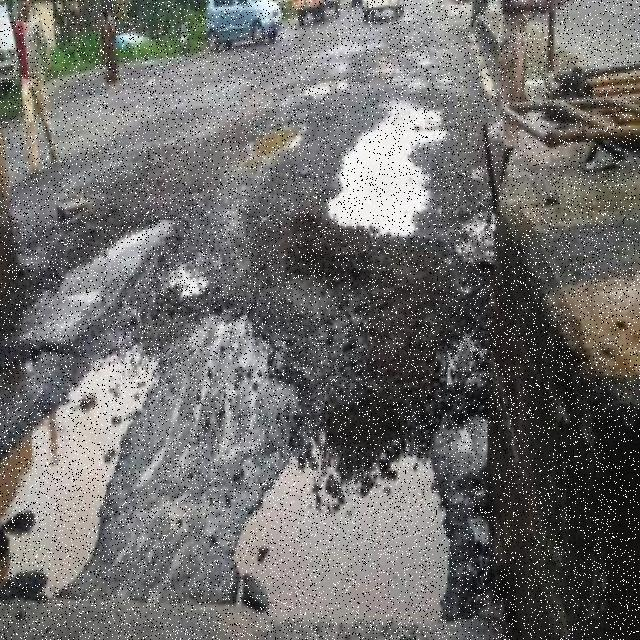pothole: (0, 355, 161, 599), (234, 464, 456, 624)
